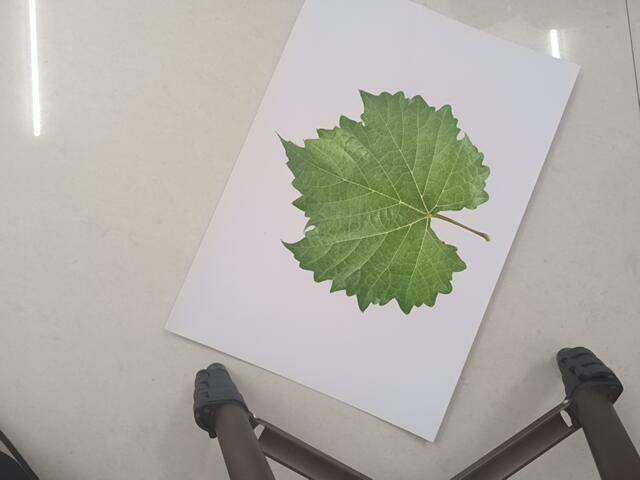Grape_Healthy: (275, 84, 490, 313)
